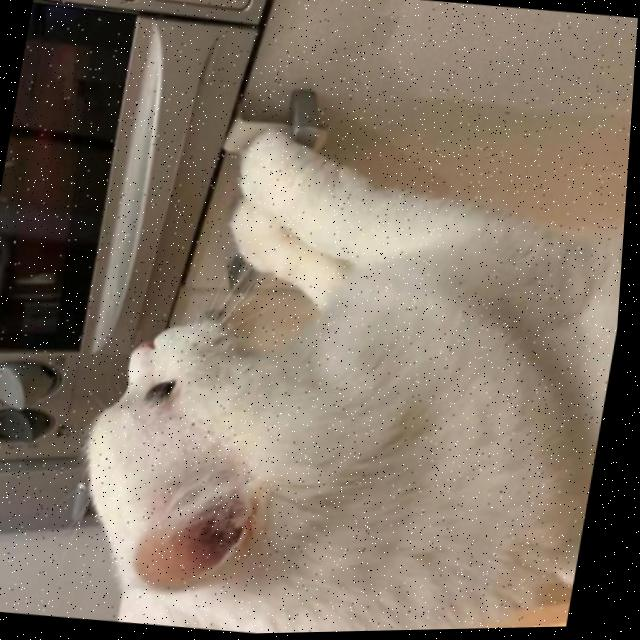Cats: (39, 105, 634, 639)
